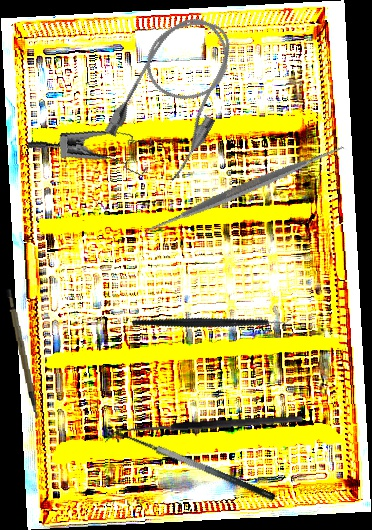Cannula: (98, 1, 256, 186)
Chopper: (131, 261, 298, 378)
Hook Surgical: (115, 413, 304, 445)
Scalpel Handle: (3, 287, 40, 423)
Spatula Surgical: (135, 79, 356, 299), (104, 420, 278, 516)
Speculum: (26, 114, 160, 199)
